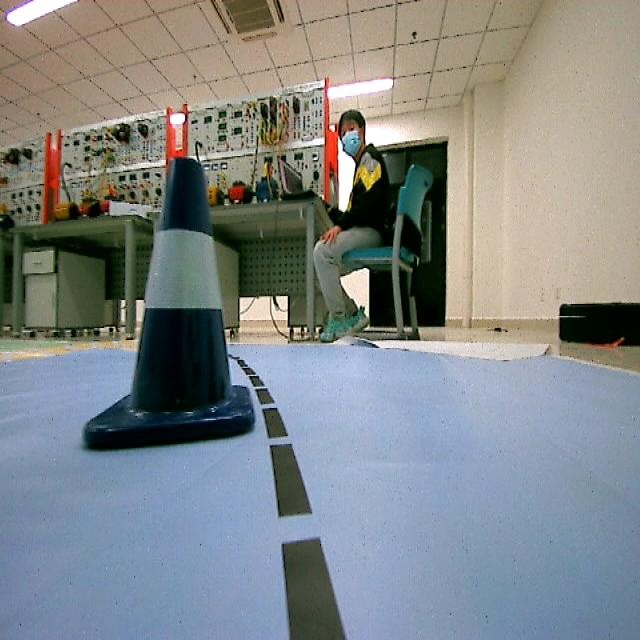obstacle: (84, 157, 255, 458)
